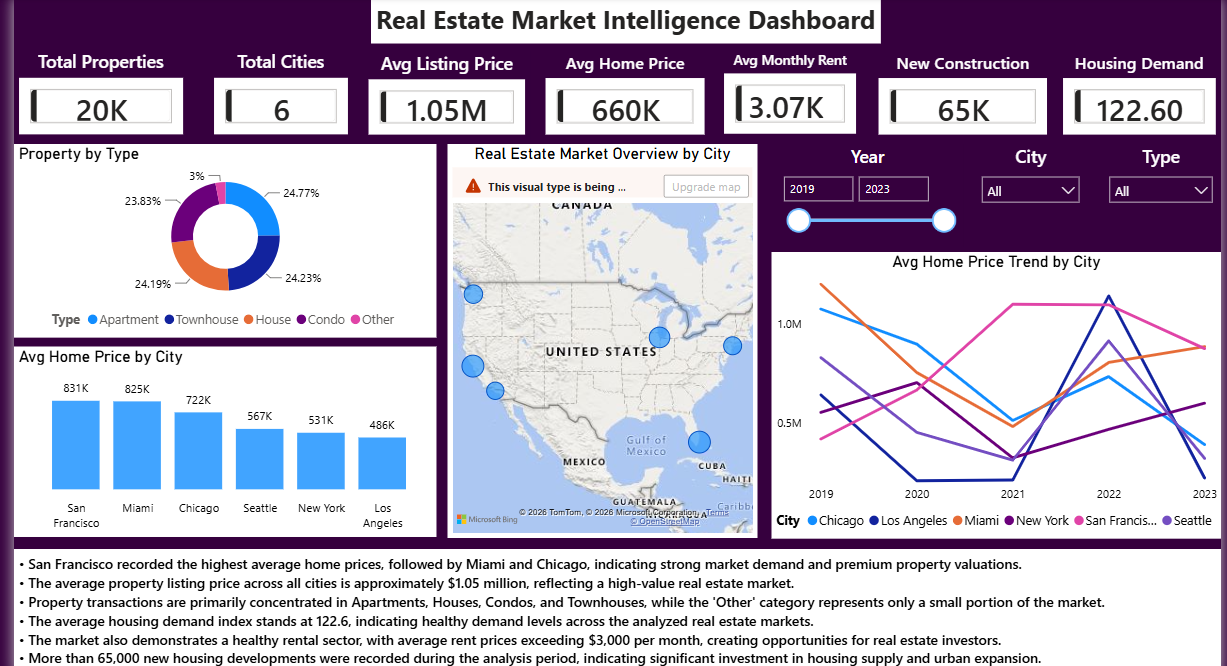

The dashboard page shown, as its layout file describes it:
{"tool":"powerbi","page":{"name":"Real Estate Market Overview","canvas":[1280,720],"ordinal":0},"visuals":[{"type":"cardVisual","title":"Total Properties","fields":{"Data":["Properties_transactions_cleaned.Total_Properties"]},"box":[0,55.1,184.1,95.7],"z":0},{"type":"cardVisual","title":"Avg Listing Price","fields":{"Data":["Properties_transactions_cleaned.Average_Listing_Price"]},"box":[371,56.5,176.8,94.2],"z":1000},{"type":"cardVisual","title":"Avg Home Price","fields":{"Data":["Properties_transactions_cleaned.Avg_Home_Price"]},"box":[558,56.5,179.7,94.2],"z":2000},{"type":"cardVisual","title":"New Construction","fields":{"Data":["Properties_transactions_cleaned.Total_New_Constructions"]},"box":[911.6,56.5,189.9,94.2],"z":3000},{"type":"cardVisual","title":"Housing Demand","fields":{"Data":["Properties_transactions_cleaned.Average_Housing_Demand"]},"box":[1107.2,56.5,172.5,94.2],"z":4000},{"type":"cardVisual","title":"Total Cities","fields":{"Data":["Properties_transactions_cleaned.Total_Cities"]},"box":[207.2,55.1,152.2,95.7],"z":5000},{"type":"donutChart","title":"Property by Type","fields":{"Y":["Properties_transactions_cleaned.Total_Properties"],"Category":["Properties_transactions_cleaned.Type"]},"box":[0,155.6,447.9,205],"z":6000},{"type":"lineChart","title":"Avg Home Price Trend by City","fields":{"Y":["Properties_transactions_cleaned.Avg_Home_Price"],"Series":["Market_Trends.City"],"Category":["Market_Trends.Year"]},"box":[802.7,270.5,477,303.9],"z":7000},{"type":"slicer","title":"Year","fields":{"Values":["Market_Trends.Year"]},"box":[802.7,155.6,203.6,109.1],"z":8000},{"type":"slicer","title":"City","fields":{"Values":["Market_Trends.City"]},"box":[1016.4,155.6,123.6,107.6],"z":9000},{"type":"slicer","title":"Type","fields":{"Values":["Properties_transactions_cleaned.Type"]},"box":[1151.5,155.9,129.4,107.4],"z":10000},{"type":"columnChart","title":"Avg Home Price by City","fields":{"Y":["Properties_transactions_cleaned.Avg_Home_Price"],"Category":["Market_Trends.City"]},"box":[0,370.8,447.9,202.1],"z":11000},{"type":"textbox","box":[0,585.2,1280.3,134.4],"z":12000},{"type":"map","title":"Real Estate Market Overview by City","fields":{"Category":["Market_Trends.City"],"Size":["Properties_transactions_cleaned.Avg_Home_Price"]},"box":[459.5,155.6,328.6,417.3],"z":13000},{"type":"cardVisual","title":"Avg Monthly Rent","fields":{"Data":["Properties_transactions_cleaned.Avg_Rent_Price"]},"box":[747.8,55.1,150.7,94.2],"z":14000},{"type":"textbox","box":[378.3,0,540.6,49.3],"z":15000}]}

Visuals, with their boxes in screenshot pixels (x1, y1, x2, y2):
"Total Properties" cardVisual: <bbox>10, 42, 183, 133</bbox>
"Avg Listing Price" cardVisual: <bbox>360, 44, 527, 133</bbox>
"Avg Home Price" cardVisual: <bbox>536, 44, 706, 133</bbox>
"New Construction" cardVisual: <bbox>870, 44, 1049, 133</bbox>
"Housing Demand" cardVisual: <bbox>1055, 44, 1217, 133</bbox>
"Total Cities" cardVisual: <bbox>205, 42, 349, 133</bbox>
"Property by Type" donutChart: <bbox>10, 137, 432, 331</bbox>
"Avg Home Price Trend by City" lineChart: <bbox>767, 246, 1217, 533</bbox>
"Year" slicer: <bbox>767, 137, 959, 240</bbox>
"City" slicer: <bbox>969, 137, 1086, 239</bbox>
"Type" slicer: <bbox>1096, 138, 1218, 239</bbox>
"Avg Home Price by City" columnChart: <bbox>10, 340, 432, 531</bbox>
textbox: <bbox>10, 543, 1218, 665</bbox>
"Real Estate Market Overview by City" map: <bbox>443, 137, 753, 531</bbox>
"Avg Monthly Rent" cardVisual: <bbox>715, 42, 858, 131</bbox>
textbox: <bbox>367, 0, 877, 37</bbox>
